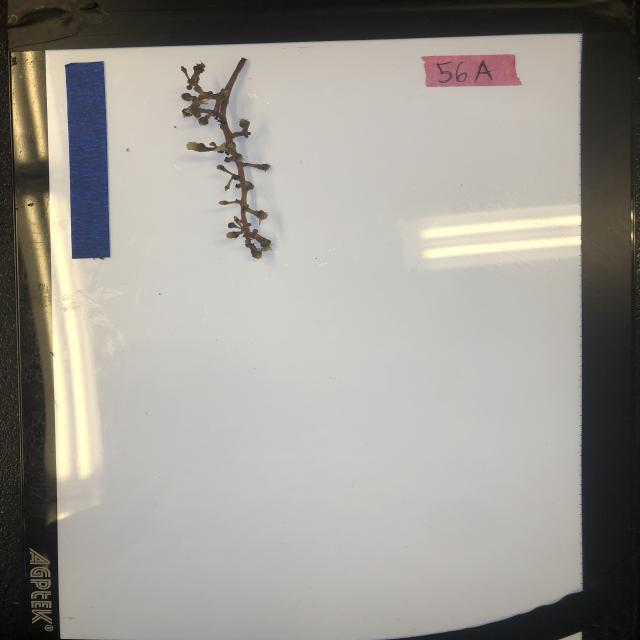index: (423, 53, 525, 89)
measure_label: (65, 61, 111, 260)
rachis_cluster: (176, 54, 291, 261)
